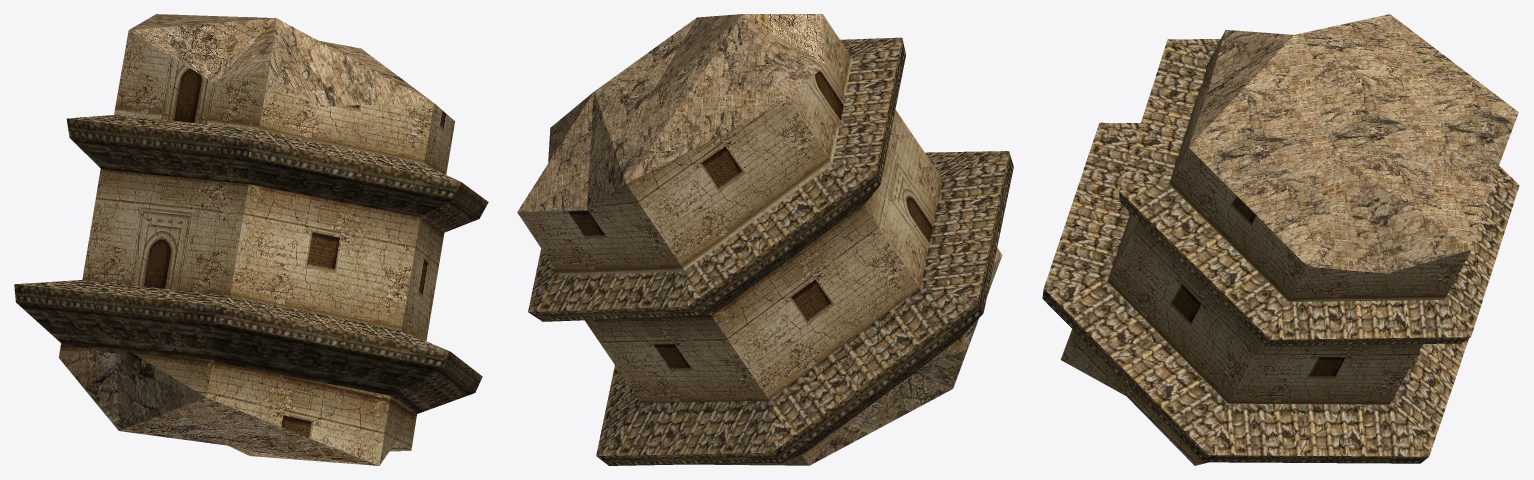
File: w_cd_tower_broken01_01.glb
3 renders of one model, left to right at view 1: azimuth 30°, elevation 25°; view 2: azimuth 150°, elevation 25°; view 3: azimuth 270°, elevation 25°, orthographic. The views are drawn at different scales.
Visible parts, largest first — view 1: w_cd_tower_broken01_01, w_cd_tower_broken01_03, w_cd_tower_broken01_02; view 2: w_cd_tower_broken01_01, w_cd_tower_broken01_03, w_cd_tower_broken01_02; view 3: w_cd_tower_broken01_03, w_cd_tower_broken01_02, w_cd_tower_broken01_01.
Part boxes in pixels (x1,y1,x2,y2): w_cd_tower_broken01_01: [58, 30, 454, 465]; w_cd_tower_broken01_03: [14, 114, 488, 413]; w_cd_tower_broken01_02: [59, 14, 433, 465]; w_cd_tower_broken01_01: [517, 14, 1001, 465]; w_cd_tower_broken01_03: [528, 37, 1013, 465]; w_cd_tower_broken01_02: [517, 14, 1002, 465]; w_cd_tower_broken01_03: [1042, 39, 1519, 463]; w_cd_tower_broken01_02: [1189, 14, 1518, 273]; w_cd_tower_broken01_01: [1060, 30, 1470, 465].
Bounding box in the file's own units: 26.38 × 23.94 × 25.53.
Materials: 3 (3 with a texture image).
